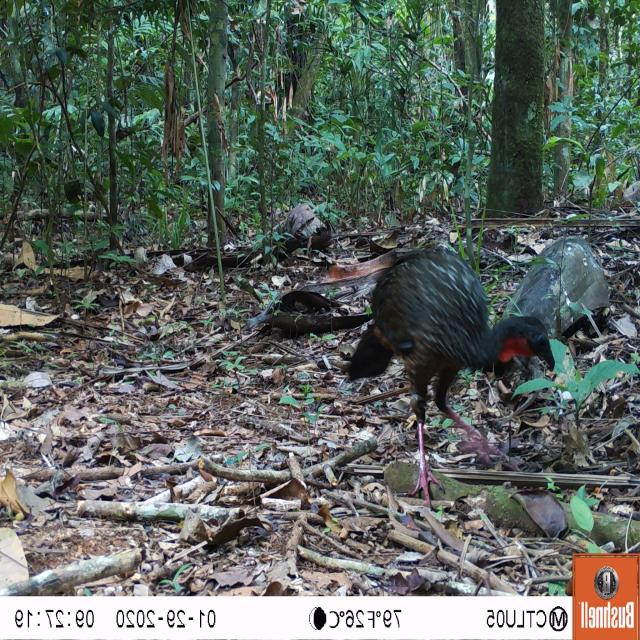Spixs Guan: (342, 238, 565, 499)
